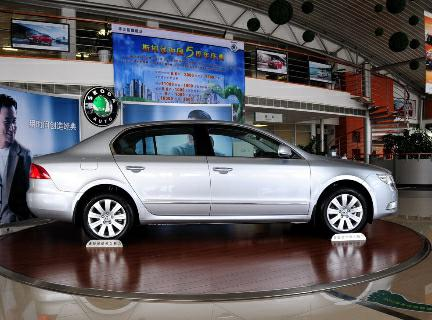斯柯达-昊锐: (21, 115, 408, 247)
